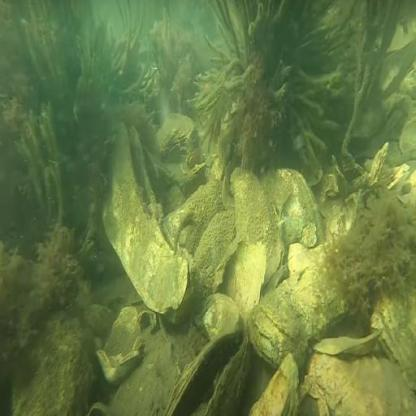Oyster- Indeterminate: (103, 124, 188, 314)
Oyster-Closed: (309, 350, 416, 416), (260, 163, 325, 259), (232, 170, 282, 281), (290, 240, 348, 335), (248, 276, 308, 364), (193, 212, 238, 319), (250, 353, 304, 416), (294, 106, 324, 188), (103, 308, 145, 358), (151, 113, 194, 156), (99, 347, 142, 382), (368, 146, 388, 185)
Oyster-Open: (166, 320, 250, 416), (82, 402, 109, 416)
